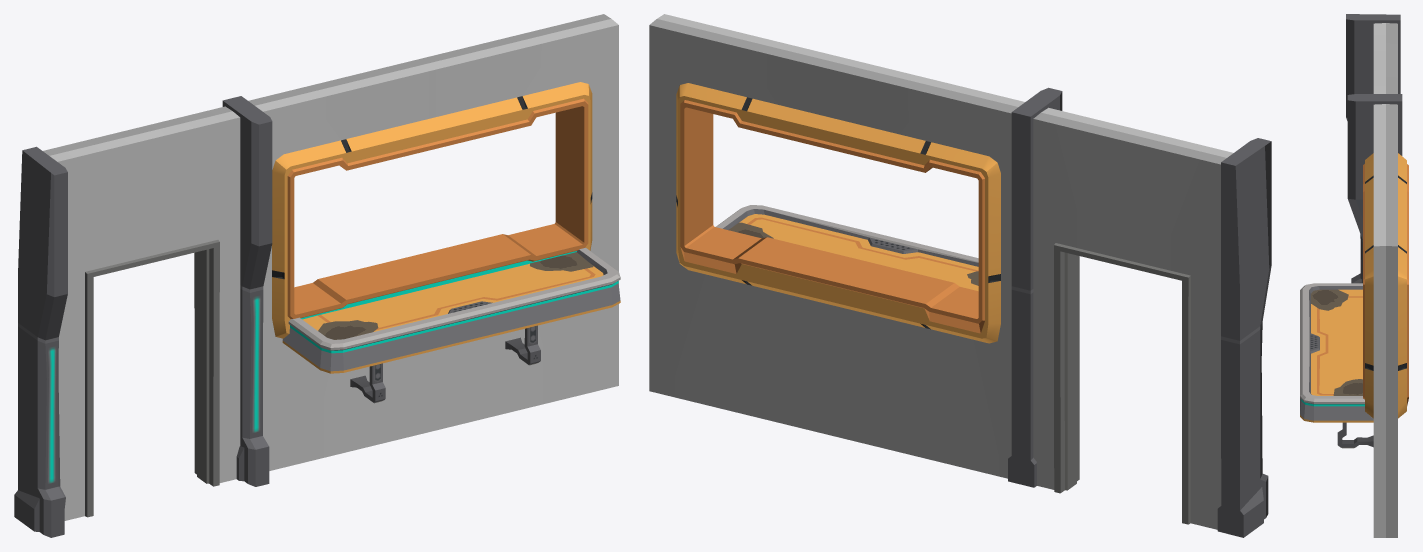
File: SM_Bld_Wall_Shop_03.fbx
The picture shows the model from 3 angles, left to right: view 1: azimuth 30°, elevation 25°; view 2: azimuth 150°, elevation 25°; view 3: azimuth 270°, elevation 25°; orthographic projection. The views are drawn at different scales.
Parts seen in each view (by area): view 1: SM_Bld_Wall_Shop_03; view 2: SM_Bld_Wall_Shop_03; view 3: SM_Bld_Wall_Shop_03.
Part boxes in pixels (x1,y1,x2,y2): SM_Bld_Wall_Shop_03: [14, 14, 620, 537]; SM_Bld_Wall_Shop_03: [649, 14, 1271, 537]; SM_Bld_Wall_Shop_03: [1300, 14, 1408, 537].
Size of the model in its own units: 511 by 303 by 101.
